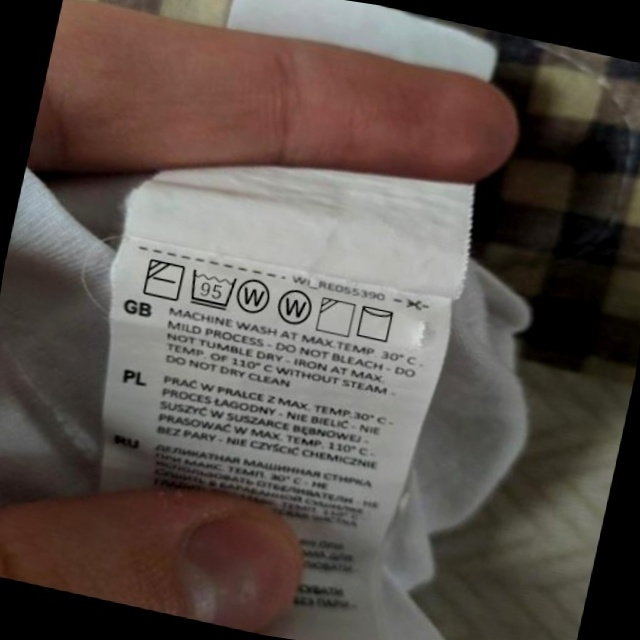95C: (184, 265, 240, 313)
dry_flat_in_shade: (140, 254, 188, 304)
line_dry: (353, 300, 400, 346)
shade_dry: (313, 293, 359, 340)
wet_clean: (273, 285, 317, 331), (234, 272, 277, 319)
